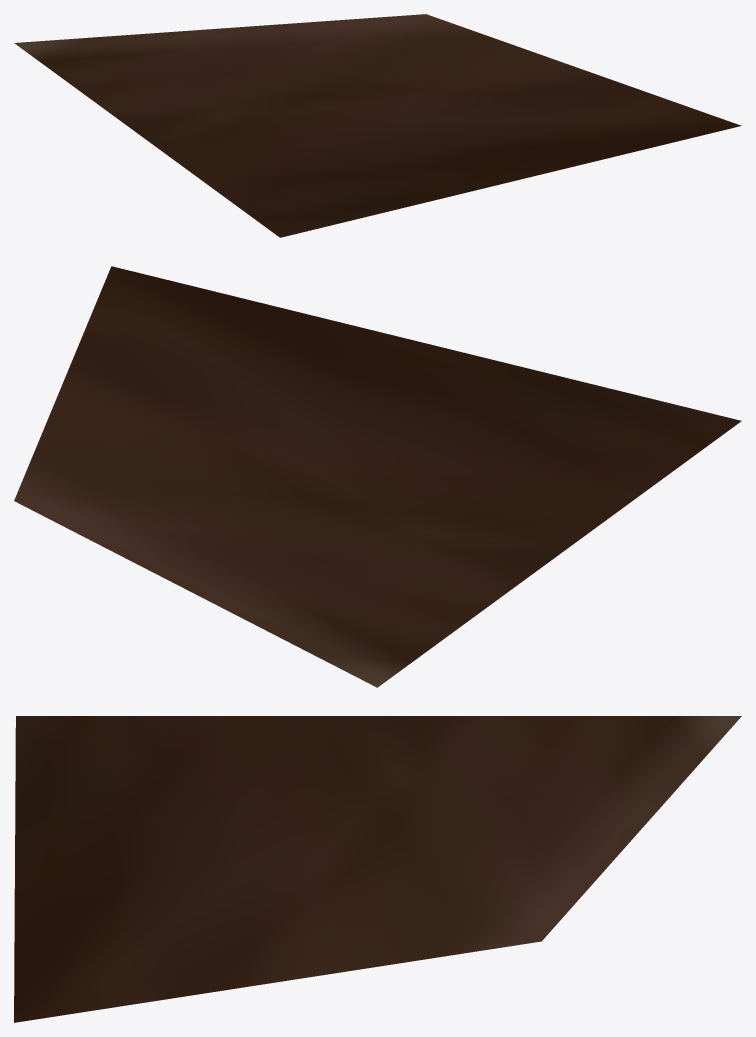
The model's file is TallWallStucco_Corner_footprint.fbx.
3 views of the same model, one above another, from view 1: azimuth 30°, elevation 25°; view 2: azimuth 150°, elevation 25°; view 3: azimuth 270°, elevation 25° (orthographic). The views are drawn at different scales.
Visible parts, largest first — view 1: footprint; view 2: footprint; view 3: footprint.
Boxes of the visible parts, bbox=[...] form: footprint: bbox=[14, 14, 741, 237]; footprint: bbox=[14, 266, 741, 687]; footprint: bbox=[14, 716, 741, 1022].
Size of the model in its own units: 200 by 3.27e-05 by 201.
Materials: 1 (1 with a texture image).
